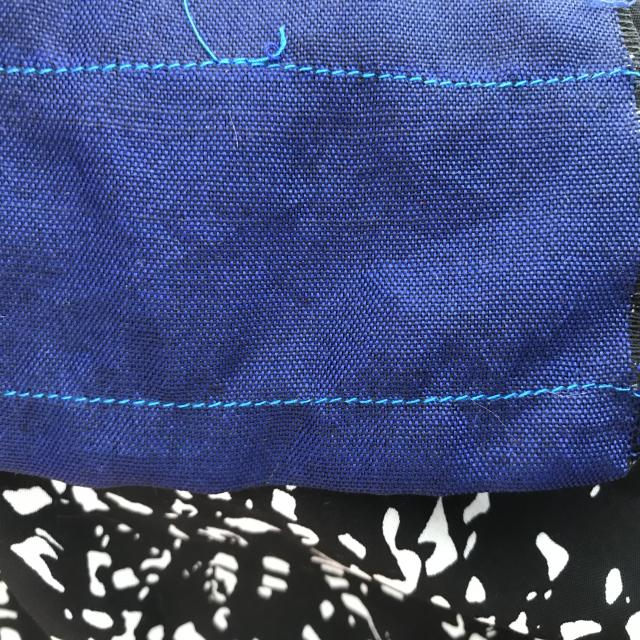good: (340, 57, 542, 106), (36, 384, 221, 426), (246, 392, 427, 426), (25, 56, 198, 90), (456, 382, 566, 413)
